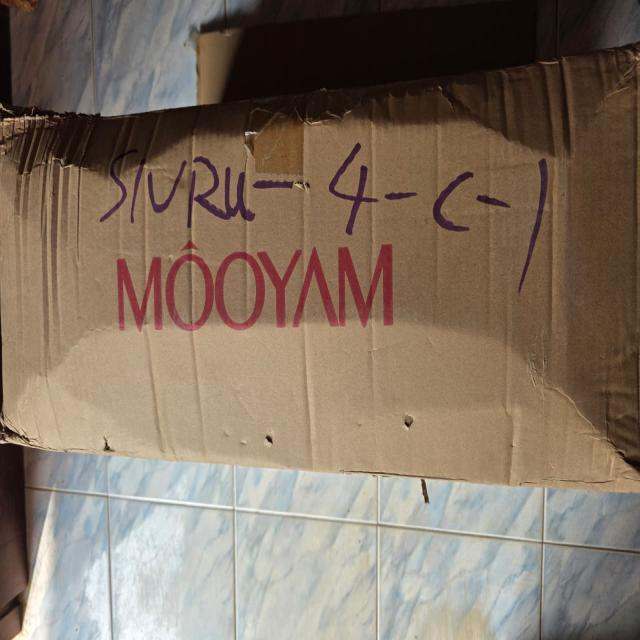carton_box: (0, 78, 640, 533)
package_damage: (0, 82, 116, 154), (0, 386, 53, 474), (391, 388, 433, 463), (82, 414, 133, 474), (250, 403, 290, 468)
